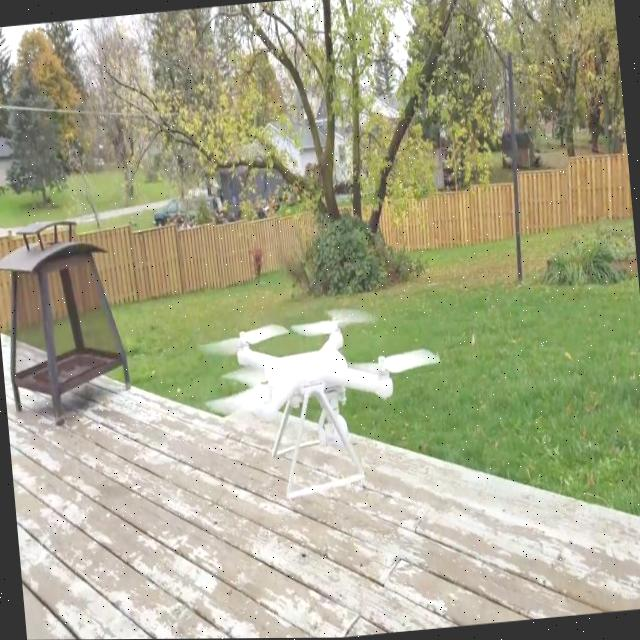drone: (180, 285, 452, 463)
